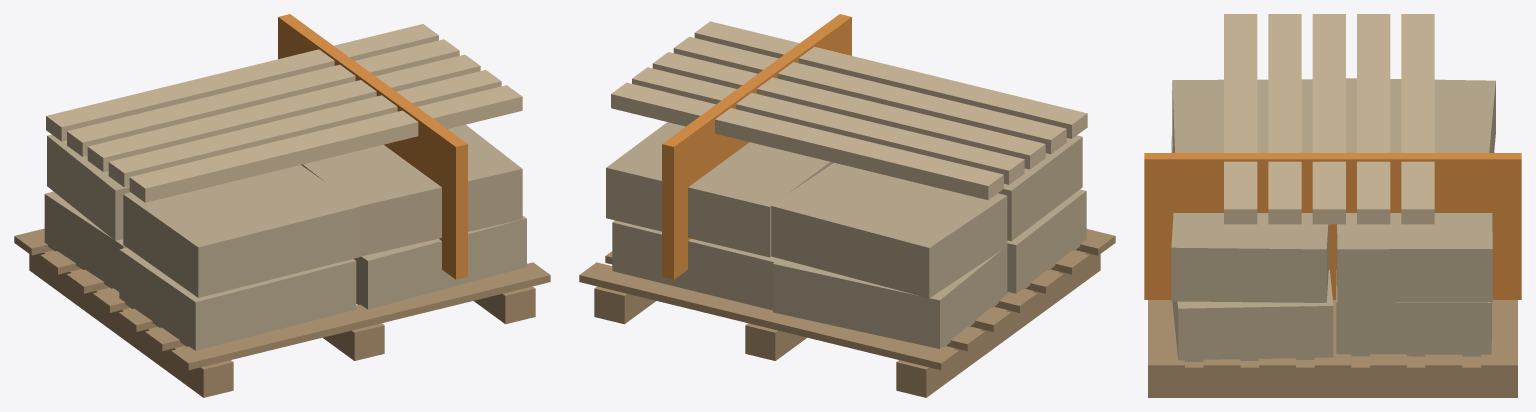
File: standin_renovation_pallet.glb
The picture shows the model from 3 angles, left to right: view 1: azimuth 30°, elevation 25°; view 2: azimuth 150°, elevation 25°; view 3: azimuth 270°, elevation 25°; orthographic projection. The views are drawn at different scales.
Visible parts, largest first — view 1: standin_renovation_pallet; view 2: standin_renovation_pallet; view 3: standin_renovation_pallet.
Part boxes in pixels (box(x1,y1,x2,y2)): standin_renovation_pallet: box(14, 14, 550, 397); standin_renovation_pallet: box(579, 14, 1115, 397); standin_renovation_pallet: box(1144, 14, 1521, 397).
Size of the model in its own units: 1.25 by 0.605 by 1.02.
